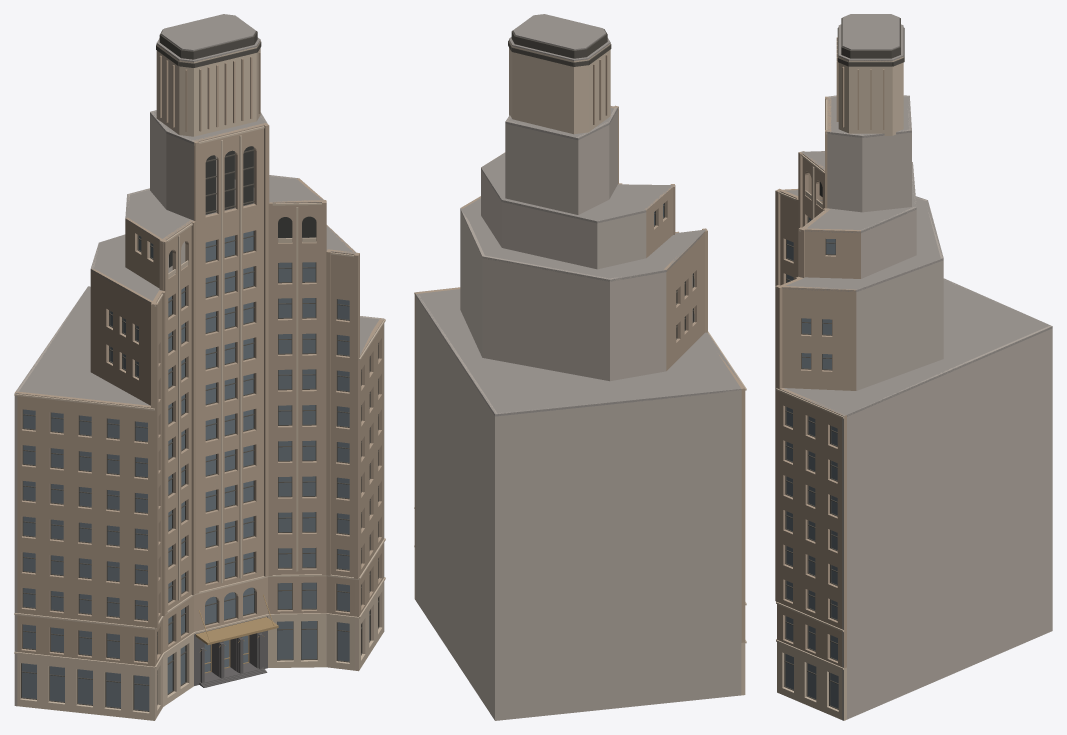
Rendered from huangpu-metropole-hotel-lod.glb.
3 views of the same model, side by side, from view 1: azimuth 30°, elevation 25°; view 2: azimuth 150°, elevation 25°; view 3: azimuth 270°, elevation 25° (orthographic). The views are drawn at different scales.
Visible parts, largest first — view 1: 都城饭店（江西中路180号转角主楼）; view 2: 都城饭店（江西中路180号转角主楼）; view 3: 都城饭店（江西中路180号转角主楼）.
Boxes of the visible parts, x1,y1,x2,y2 form: 都城饭店（江西中路180号转角主楼）: [14, 14, 385, 720]; 都城饭店（江西中路180号转角主楼）: [414, 14, 746, 720]; 都城饭店（江西中路180号转角主楼）: [775, 14, 1052, 720].
Size of the model in its own units: 38.47 by 65 by 26.68.
